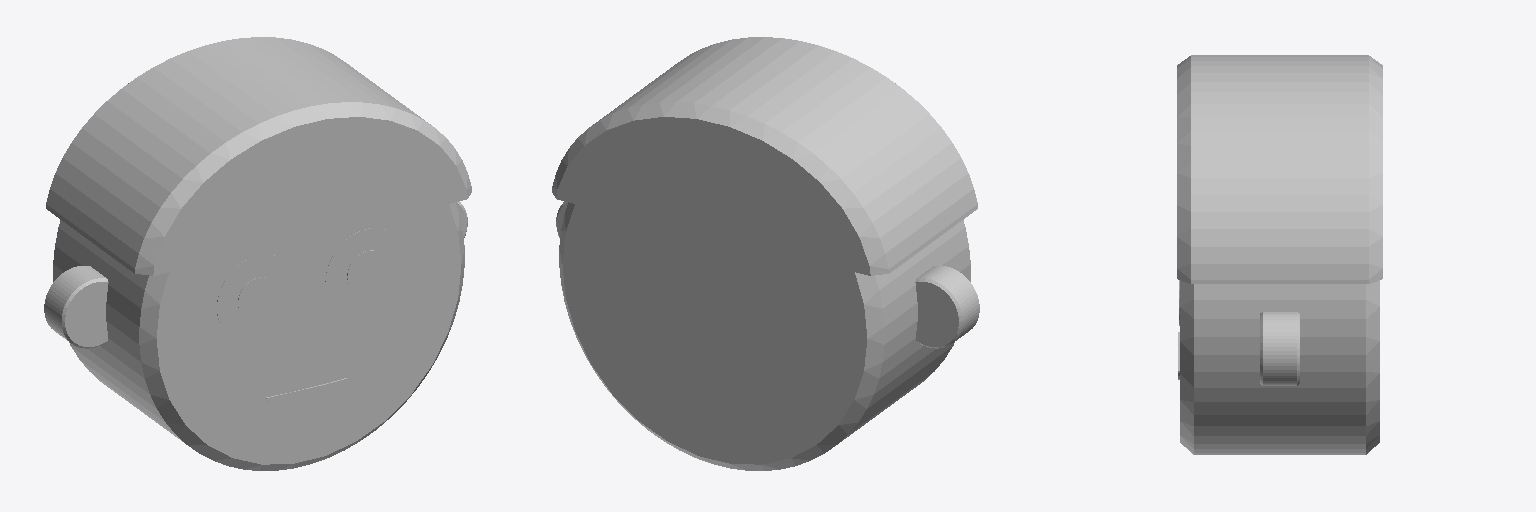
File: hair.obj
The picture shows the model from 3 angles: view 1: azimuth 30°, elevation 25°; view 2: azimuth 150°, elevation 25°; view 3: azimuth 270°, elevation 25°; orthographic projection.
Visible parts, largest first — view 1: pCylinder13 polySurface7, pCylinder13 polySurface9, polySurface1 pCylinder13, pCylinder13 polySurface2, pCylinder13 polySurface5, pCylinder13 polySurface3, pCylinder13 polySurface4, pCylinder13 polySurface6; view 2: pCylinder13 polySurface9, pCylinder13 polySurface7, polySurface1 pCylinder13; view 3: pCylinder13 polySurface7, pCylinder13 polySurface9, pCylinder13 polySurface8.
Part boxes in pixels (x1,y1,x2,y2): pCylinder13 polySurface7: (46, 37, 471, 275); pCylinder13 polySurface9: (53, 202, 464, 470); polySurface1 pCylinder13: (44, 266, 108, 348); pCylinder13 polySurface2: (325, 228, 406, 315); pCylinder13 polySurface5: (217, 255, 298, 341); pCylinder13 polySurface3: (266, 378, 346, 412); pCylinder13 polySurface4: (238, 277, 277, 319); pCylinder13 polySurface6: (347, 250, 386, 292); pCylinder13 polySurface9: (559, 202, 970, 470); pCylinder13 polySurface7: (552, 37, 977, 275); polySurface1 pCylinder13: (915, 266, 979, 348); pCylinder13 polySurface7: (1177, 55, 1382, 283); pCylinder13 polySurface9: (1180, 280, 1379, 454); pCylinder13 polySurface8: (1260, 312, 1299, 385).
Bounding box in the file's own units: 2.99 × 2.53 × 1.32.